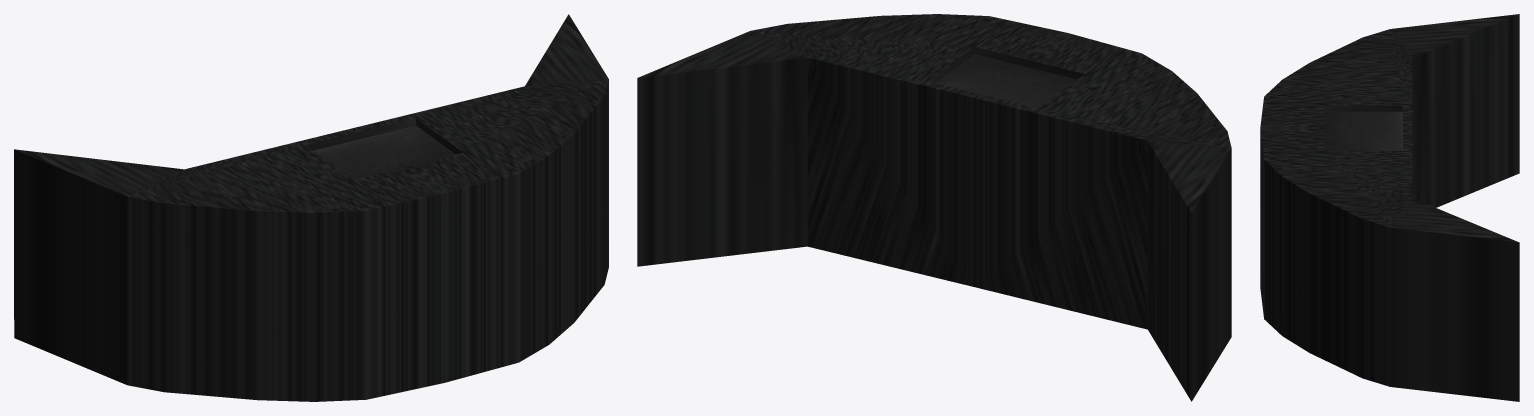
File: DashBoard.fbx
The picture shows the model from 3 angles, left to right: view 1: azimuth 30°, elevation 25°; view 2: azimuth 150°, elevation 25°; view 3: azimuth 270°, elevation 25°; orthographic projection. The views are drawn at different scales.
Visible parts, largest first — view 1: tableauBord; view 2: tableauBord; view 3: tableauBord.
Part boxes in pixels (x1=…): tableauBord: x1=14, y1=14, x2=608, y2=401; tableauBord: x1=637, y1=14, x2=1231, y2=401; tableauBord: x1=1260, y1=14, x2=1519, y2=401.
Bounding box in the file's own units: 1015 × 331 × 487.
1 material, 1 textured.
